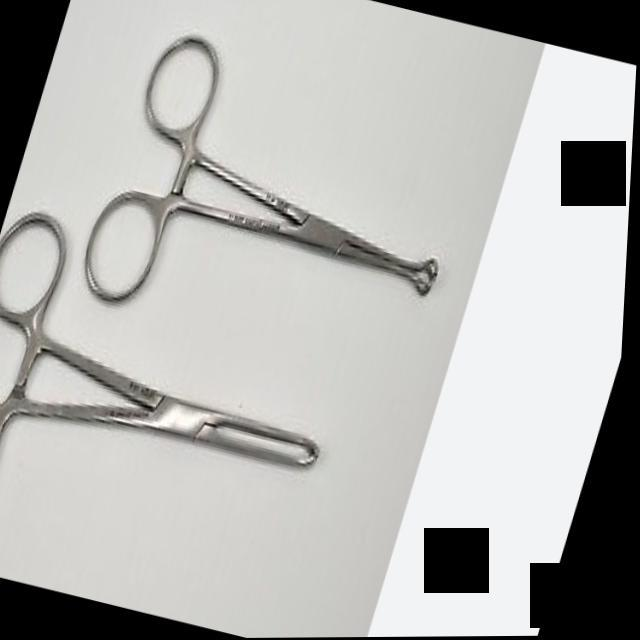Allis Forceps: (0, 184, 379, 614)
Babcock Forceps: (68, 14, 496, 380)
